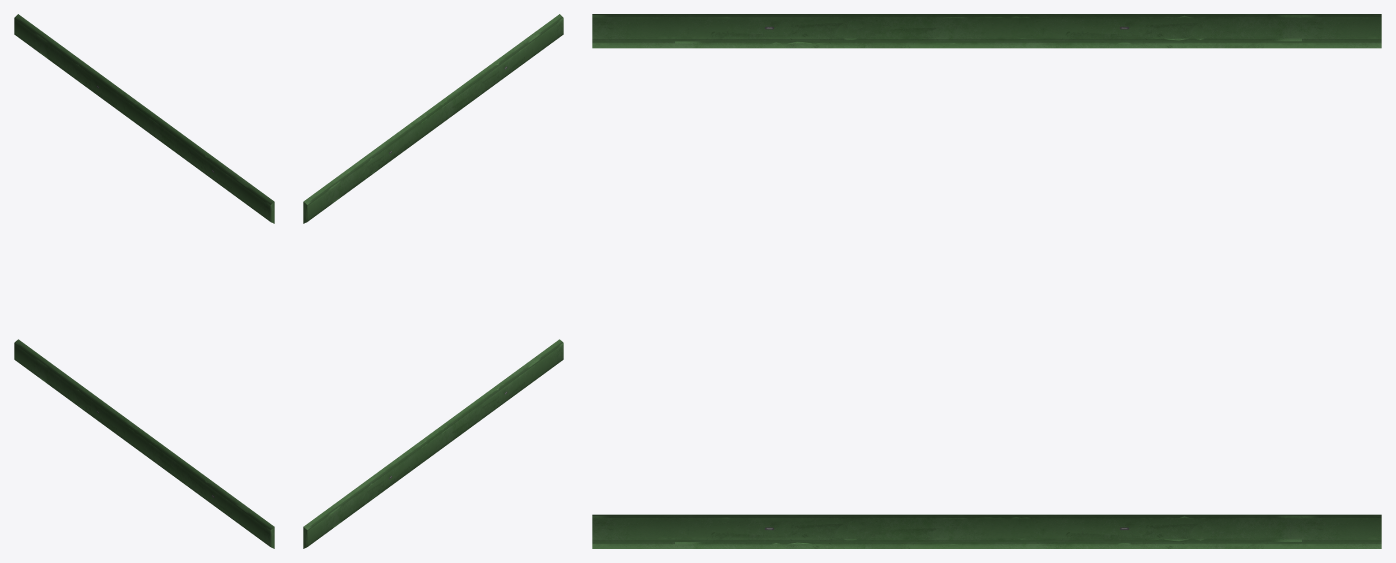
File: MB_Molding_F_4m.fbx
3 views of the same model, side by side, from view 1: azimuth 30°, elevation 25°; view 2: azimuth 150°, elevation 25°; view 3: azimuth 270°, elevation 25° (orthographic). The views are drawn at different scales.
Parts seen in each view (by area): view 1: MB_Molding_4m_F; view 2: MB_Molding_4m_F; view 3: MB_Molding_4m_F.
Boxes of the visible parts, box(x1,y1,x2,y2) form: MB_Molding_4m_F: box(14, 14, 274, 548); MB_Molding_4m_F: box(303, 14, 563, 548); MB_Molding_4m_F: box(592, 14, 1381, 548).
Size of the model in its own units: 3.42 by 299 by 400.
